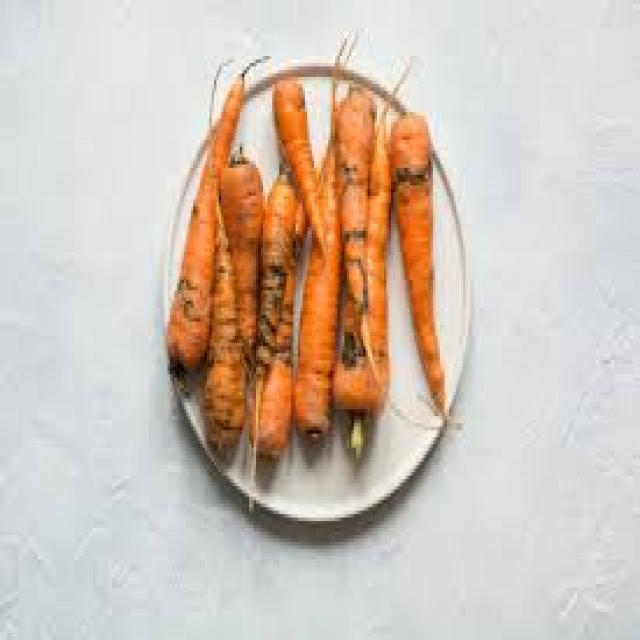organic waste: (166, 49, 266, 374), (335, 88, 386, 451), (389, 108, 442, 416), (335, 70, 382, 385), (294, 102, 338, 437), (247, 192, 300, 444), (200, 192, 247, 448), (246, 168, 282, 500), (272, 70, 326, 259), (219, 147, 256, 360)
